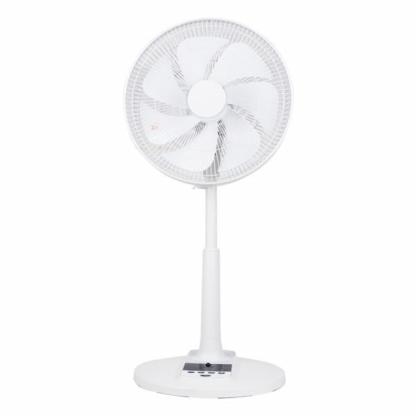fan: (116, 10, 301, 401)
